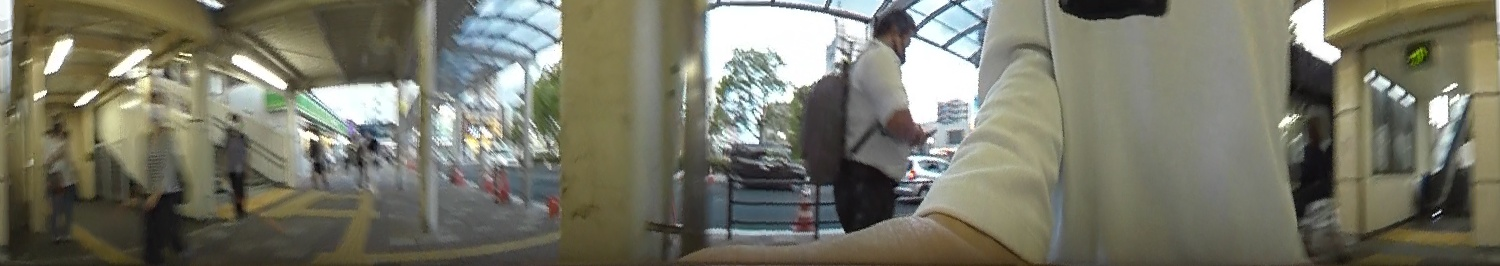difficult_person: (360, 127, 386, 196)
person: (797, 6, 919, 235), (135, 80, 194, 264), (1292, 105, 1353, 261), (41, 127, 87, 244), (214, 108, 257, 215), (306, 128, 334, 190)
